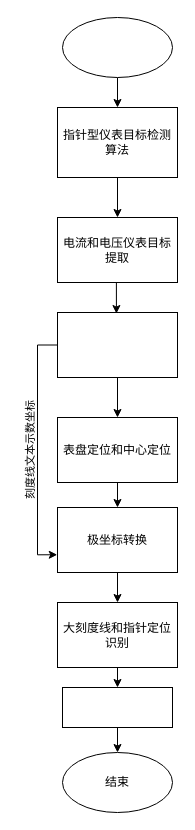
Image size: 195x830. Some labels were removed from this diagram. Here are the shapes that lost their labels. From the top down, the centre of each, then its label:
At [117,47]: "输入图像".
At [117,345]: "文本目标检测模型".
At [117,707]: "示数读取".
